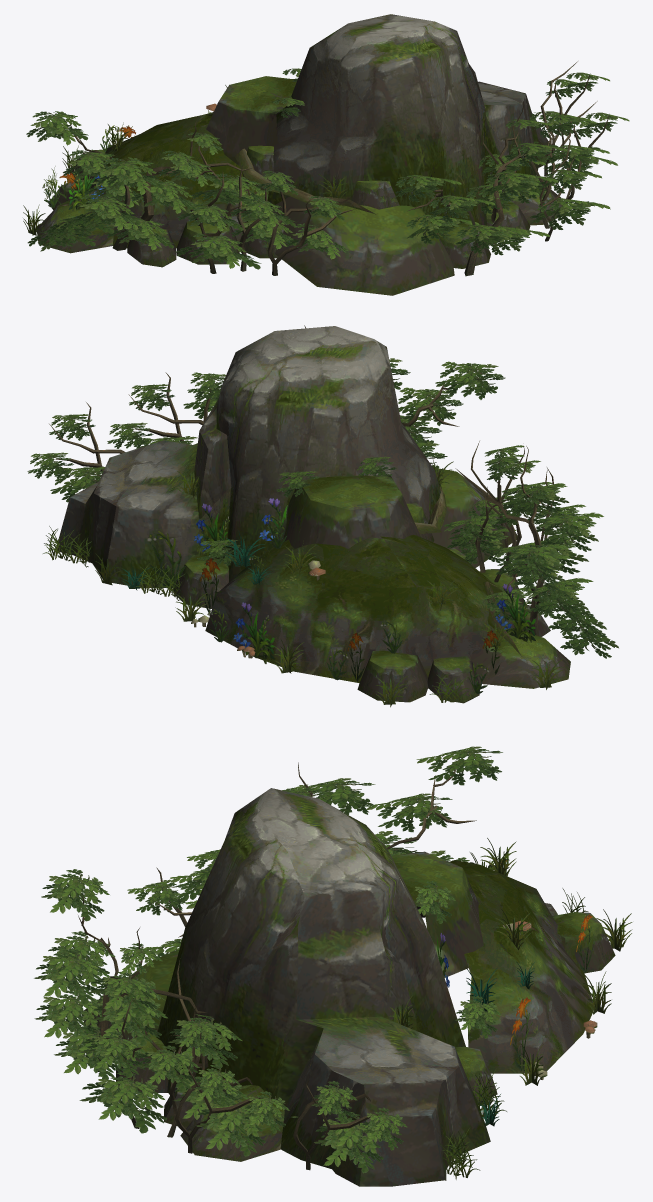
Rendered from 4006_Item_shu_4.FBX.
3 views of the same model, one above another, from view 1: azimuth 30°, elevation 25°; view 2: azimuth 150°, elevation 25°; view 3: azimuth 270°, elevation 25° (orthographic). The views are drawn at different scales.
Visible parts, largest first — view 1: 4006_Item_shu_4; view 2: 4006_Item_shu_4; view 3: 4006_Item_shu_4.
Part boxes in pixels (<box>): 4006_Item_shu_4: <box>23,14,629,295</box>; 4006_Item_shu_4: <box>27,325,618,707</box>; 4006_Item_shu_4: <box>34,746,632,1186</box>.
Size of the model in its own units: 110 by 37.72 by 82.83.
